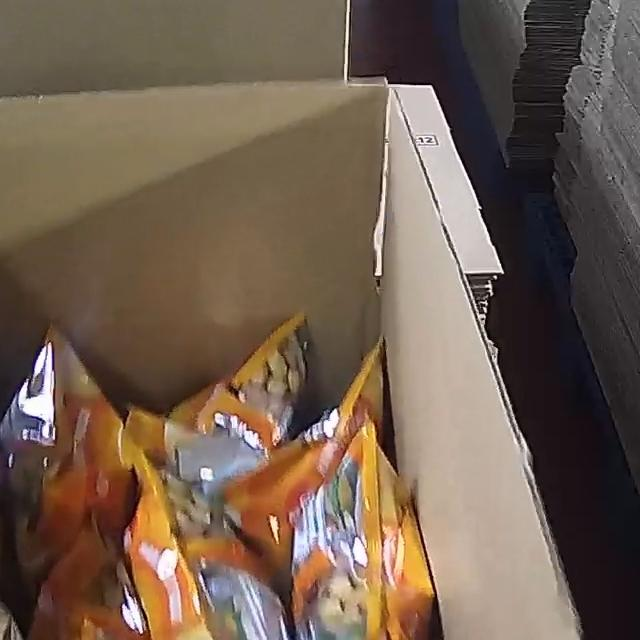cheese: (0, 312, 405, 640)
